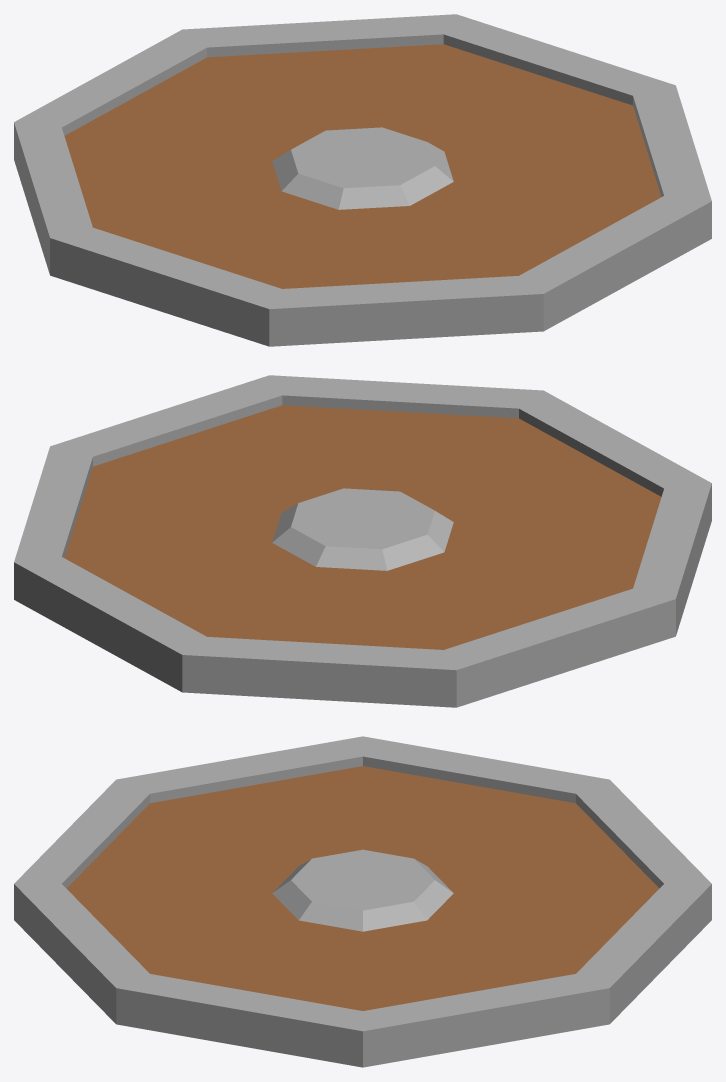
The model's file is Shield_tex.fbx.
3 renders of one model, top to bottom at view 1: azimuth 30°, elevation 25°; view 2: azimuth 150°, elevation 25°; view 3: azimuth 270°, elevation 25°, orthographic. The views are drawn at different scales.
Visible parts, largest first — view 1: Shield_tex; view 2: Shield_tex; view 3: Shield_tex.
Boxes of the visible parts, x1=… form: Shield_tex: x1=14, y1=14, x2=711, y2=346; Shield_tex: x1=14, y1=375, x2=711, y2=707; Shield_tex: x1=14, y1=736, x2=711, y2=1067.
Size of the model in its own units: 0.8 by 0.0506 by 0.8.
